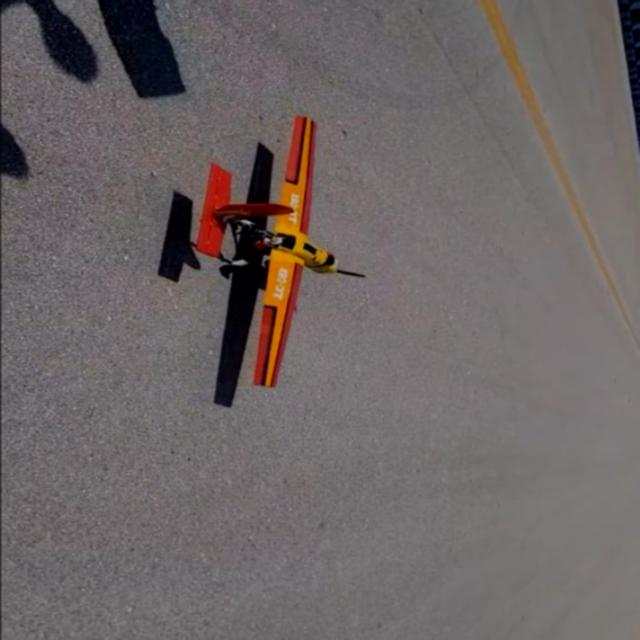plane: (190, 115, 368, 390)
